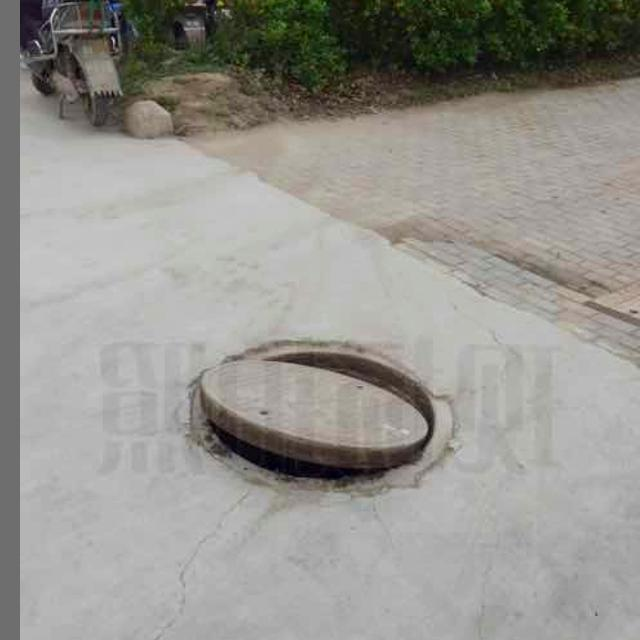uncovered: (185, 341, 454, 494)
